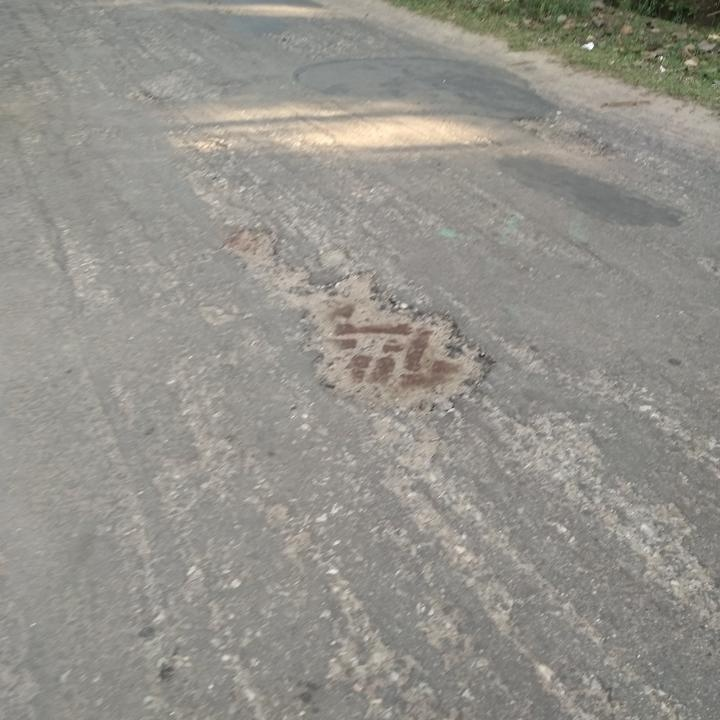pothole: (292, 268, 505, 422), (508, 111, 617, 159), (223, 222, 280, 273)
